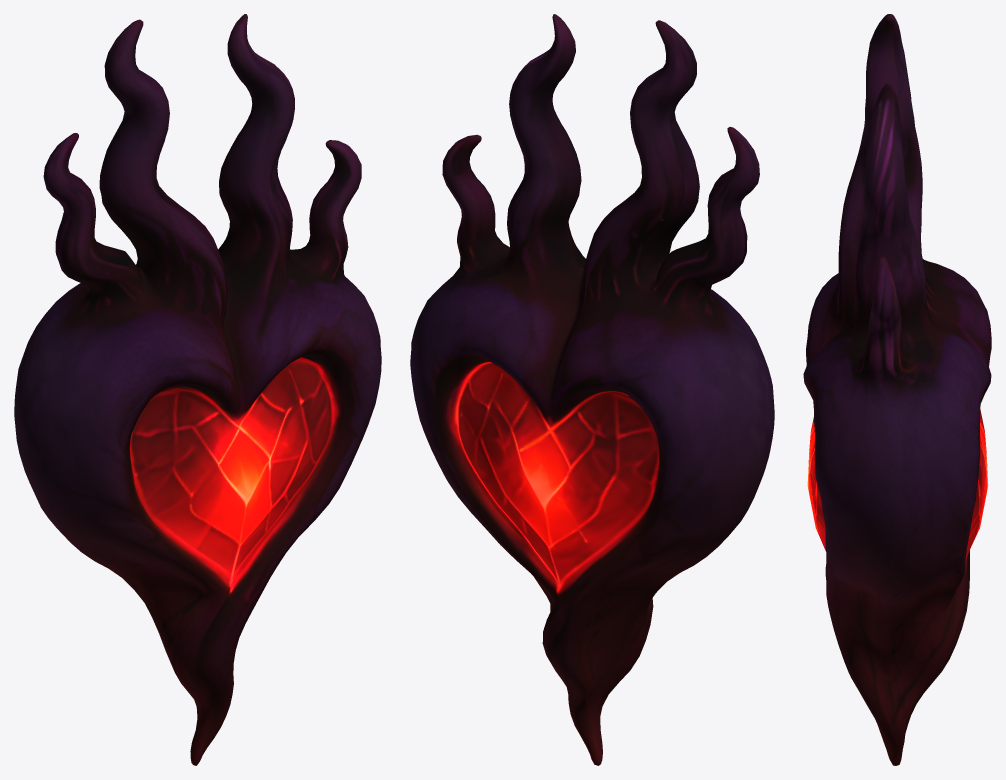
Rendered from Heart_of_the_Void_OS_MML_FINAL.glb.
3 views of the same model, side by side, from view 1: azimuth 30°, elevation 25°; view 2: azimuth 150°, elevation 25°; view 3: azimuth 270°, elevation 25° (orthographic). The views are drawn at different scales.
Visible parts, largest first — view 1: texture_pbr_v128; view 2: texture_pbr_v128; view 3: texture_pbr_v128.
Part boxes in pixels (x1,y1,x2,y2): texture_pbr_v128: (14, 14, 381, 765); texture_pbr_v128: (410, 14, 774, 765); texture_pbr_v128: (803, 14, 991, 765).
Size of the model in its own units: 0.7153 by 1.5 by 0.353.
Materials: 1 (1 with a texture image).
